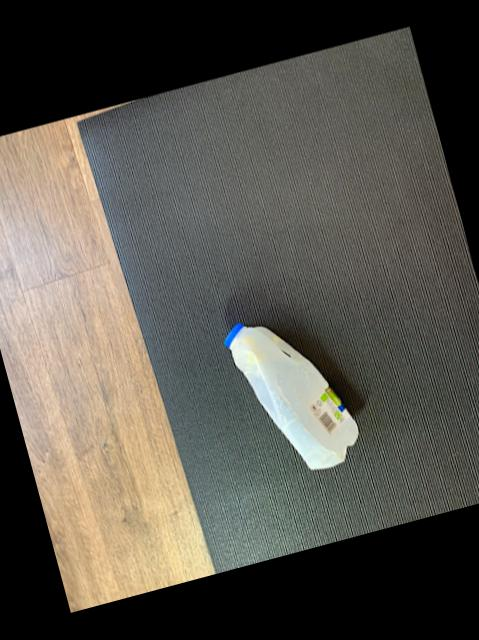plastic: (221, 324, 354, 469)
